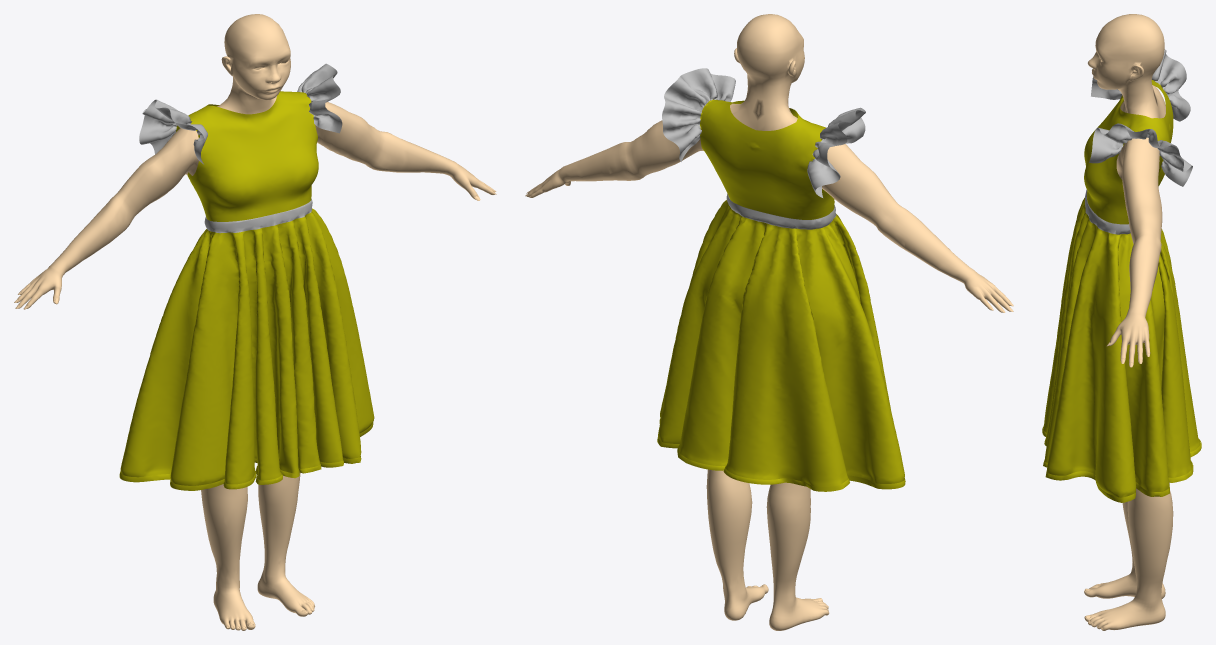
Rendered from dress10.glb.
3 renders of one model, left to right at view 1: azimuth 30°, elevation 25°; view 2: azimuth 150°, elevation 25°; view 3: azimuth 270°, elevation 25°, orthographic.
Visible parts, largest first — view 1: PinkDrees#14 (OBJ), Body; view 2: PinkDrees#14 (OBJ), Body; view 3: PinkDrees#14 (OBJ), Body.
Boxes of the visible parts, left/top/right/bottom form: PinkDrees#14 (OBJ): left=119, top=63, right=374, bottom=490; Body: left=16, top=14, right=496, bottom=630; PinkDrees#14 (OBJ): left=657, top=68, right=905, bottom=491; Body: left=526, top=14, right=1010, bottom=630; PinkDrees#14 (OBJ): left=1042, top=49, right=1201, bottom=502; Body: left=1084, top=14, right=1173, bottom=630.
Bounding box in the file's own units: 1.58 × 1.85 × 0.451.
